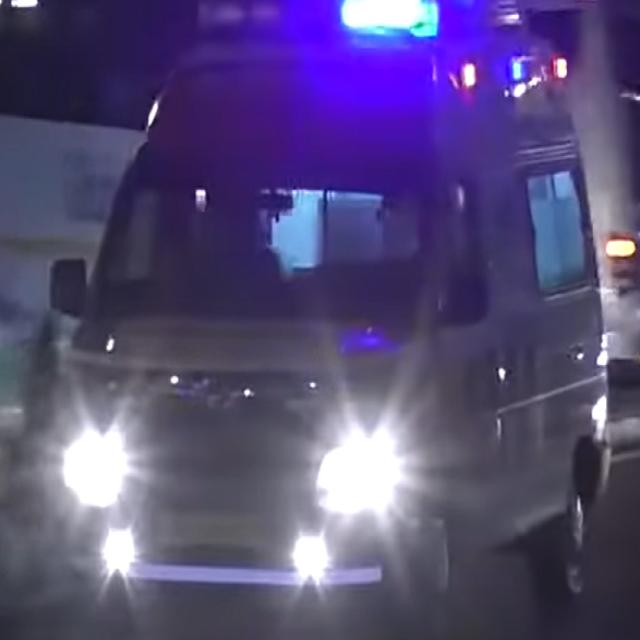ambulance: (40, 34, 616, 616)
